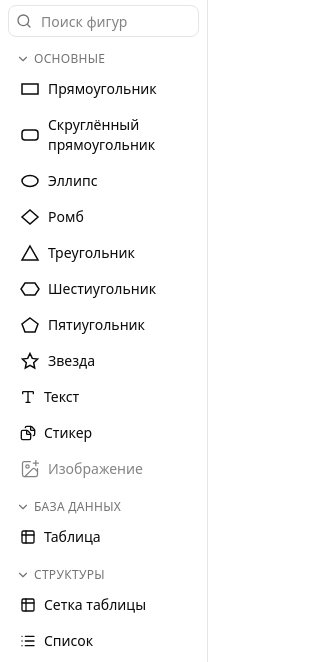
it: ShapePalette › tells when nothing is found, and Escape brings the sections back
Type "zzz" into the search field labelled "Поиск фигур".
click(104, 21); type("zzz")  # box [8,5,199,37]
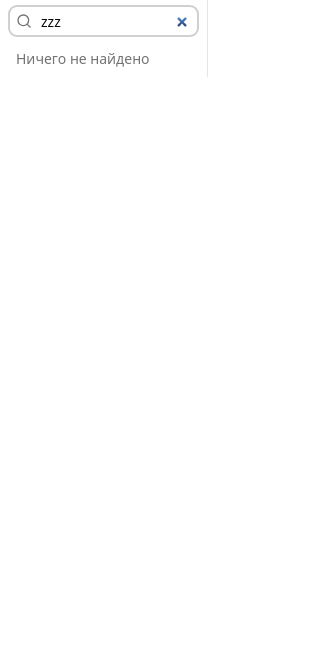
Expected: the text "Ничего не найдено" is shown, [16,49,150,68]
Press Escape
(page scrolled)
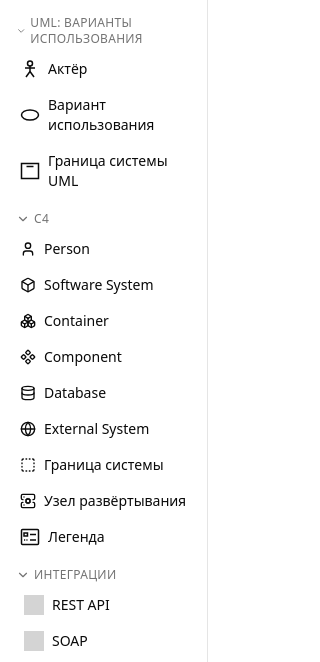
Expected: the element "C4" is shown, [8,209,199,553]
